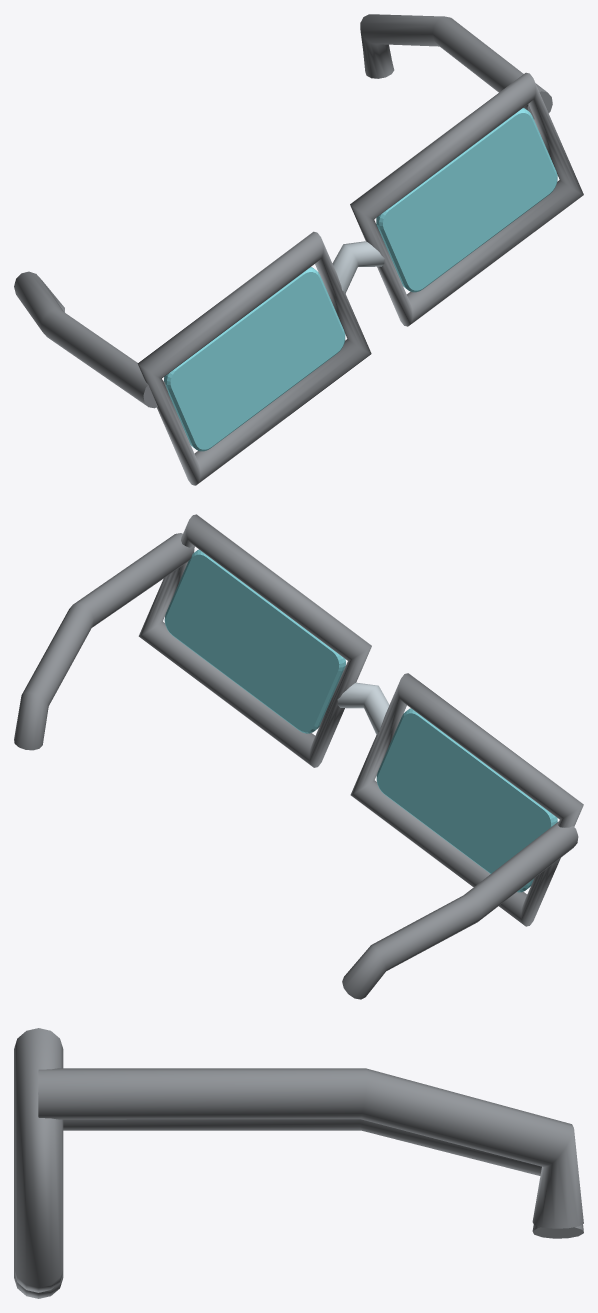
The model's file is ar_glasses.glb.
3 renders of one model, top to bottom at view 1: azimuth 30°, elevation 25°; view 2: azimuth 150°, elevation 25°; view 3: azimuth 270°, elevation 25°, orthographic. The views are drawn at different scales.
Bounding box in the file's own units: 24.64 × 17.55 × 16.68.
